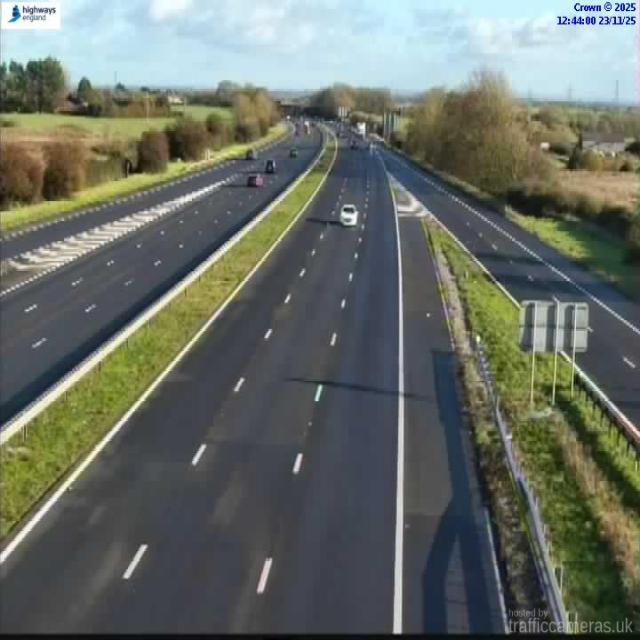foliage: (0, 91, 277, 200), (390, 71, 548, 192)
